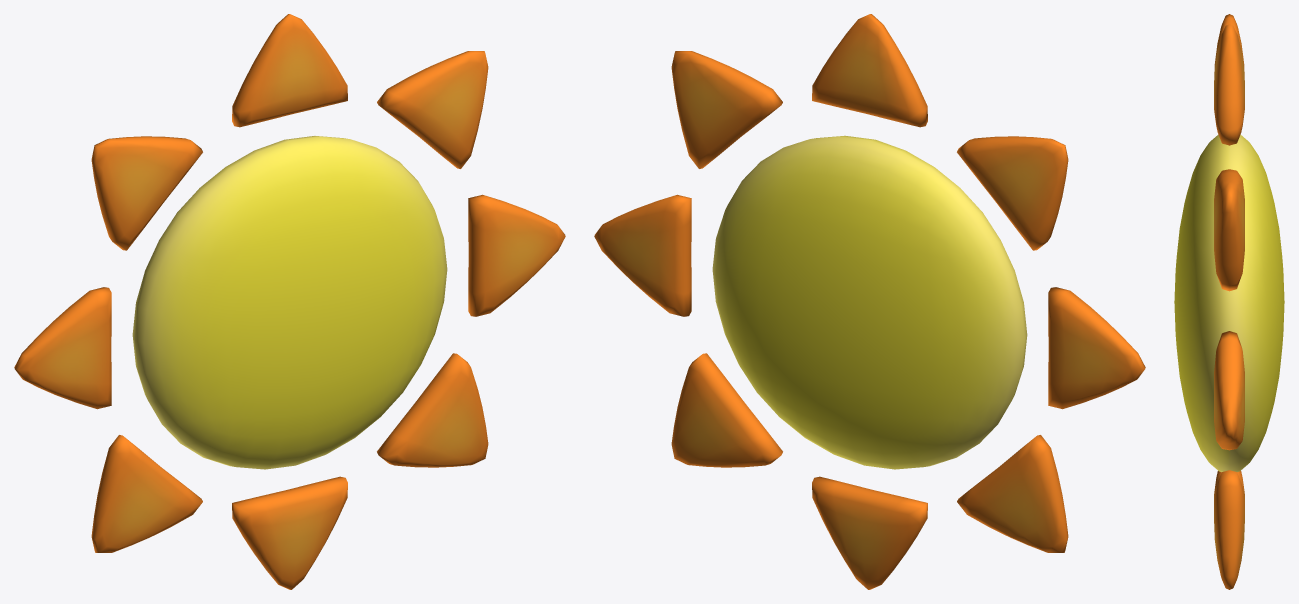
Rendered from Warmth.fbx.
3 views of the same model, side by side, from view 1: azimuth 30°, elevation 25°; view 2: azimuth 150°, elevation 25°; view 3: azimuth 270°, elevation 25° (orthographic). The views are drawn at different scales.
Parts seen in each view (by area): view 1: Warmth; view 2: Warmth; view 3: Warmth.
Part boxes in pixels (x1,y1,x2,y2): Warmth: (14,14,565,589); Warmth: (594,14,1145,589); Warmth: (1174,14,1284,589).
Bounding box in the file's own units: 323 × 323 × 58.05.
Materials: 1 (1 with a texture image).
